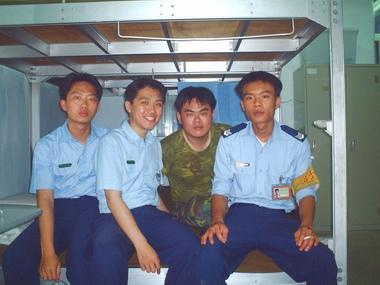person: (194, 70, 339, 285), (3, 72, 113, 285), (92, 77, 202, 285), (160, 86, 234, 239)
